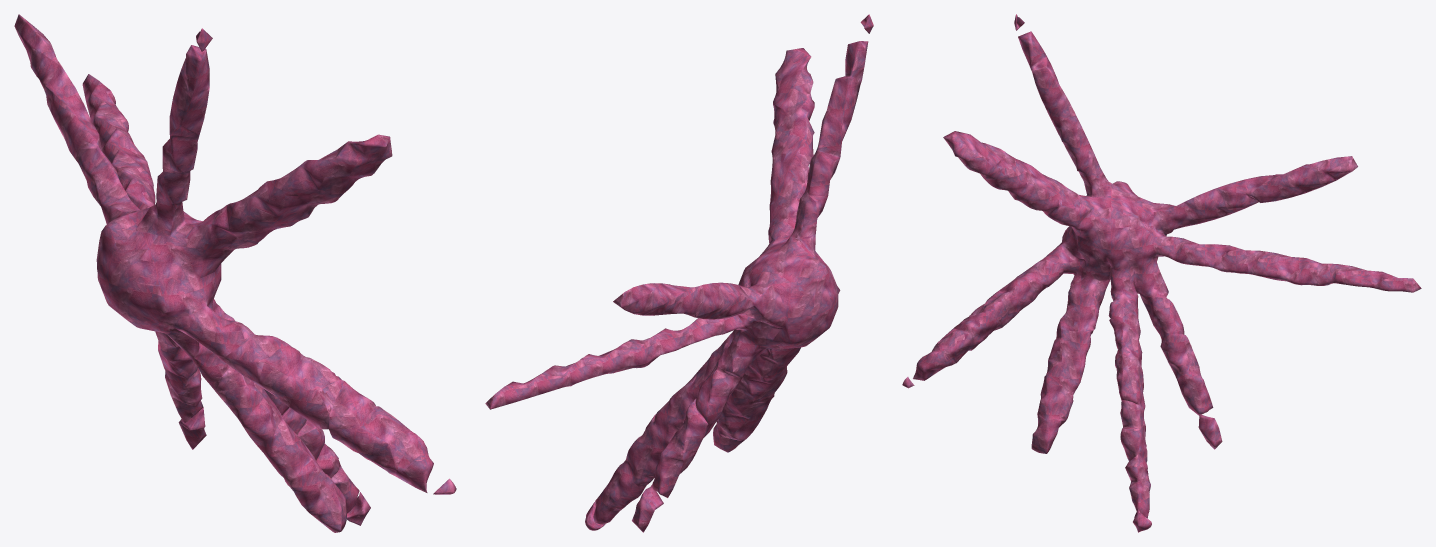
The model's file is sun2.gltf.
The picture shows the model from 3 angles, left to right: view 1: azimuth 30°, elevation 25°; view 2: azimuth 150°, elevation 25°; view 3: azimuth 270°, elevation 25°; orthographic projection. The views are drawn at different scales.
Visible parts, largest first — view 1: Mball.006; view 2: Mball.006; view 3: Mball.006.
Part boxes in pixels (box(x1,y1,x2,y2)): Mball.006: box(14, 14, 456, 532); Mball.006: box(485, 14, 873, 532); Mball.006: box(902, 14, 1421, 532).
Bounding box in the file's own units: 14.73 × 30.7 × 33.22.
Materials: 1 (1 with a texture image).
